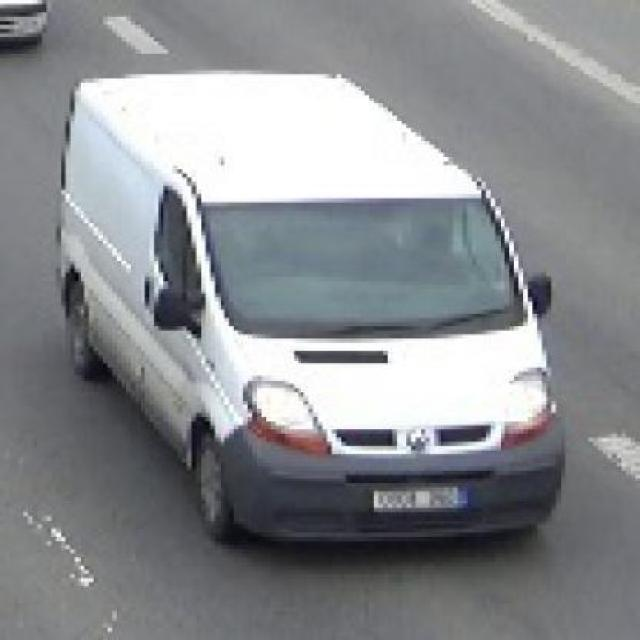vehicle: (48, 64, 574, 576)
